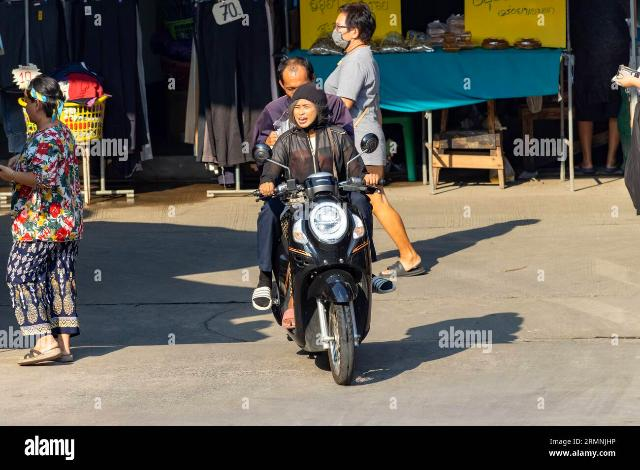motor: (254, 132, 384, 386)
non-helm: (291, 84, 330, 130), (280, 59, 317, 96)
